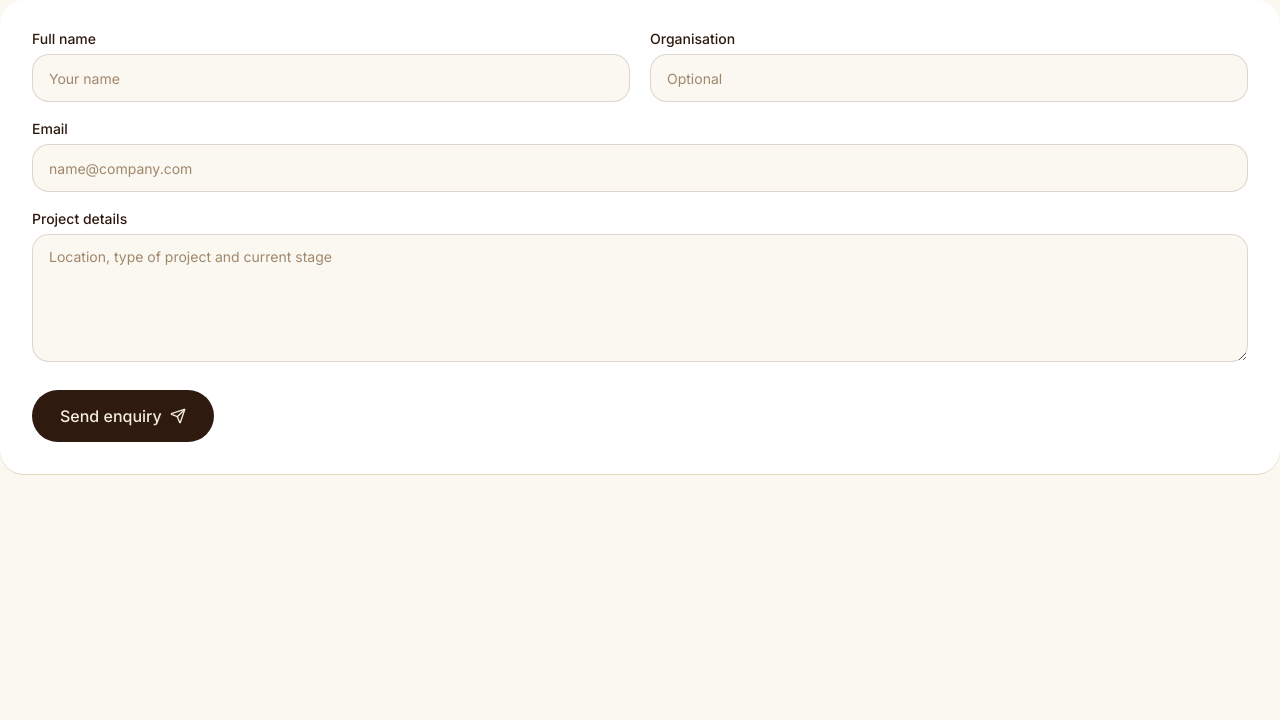
it: EnquiryForm › states plainly that online enquiries are not connected yet when the form is valid
Type "Mariam Al Mansoori" into the field labelled "Full name" at {"x": 331, "y": 78}, box 32,54 -> 630,102
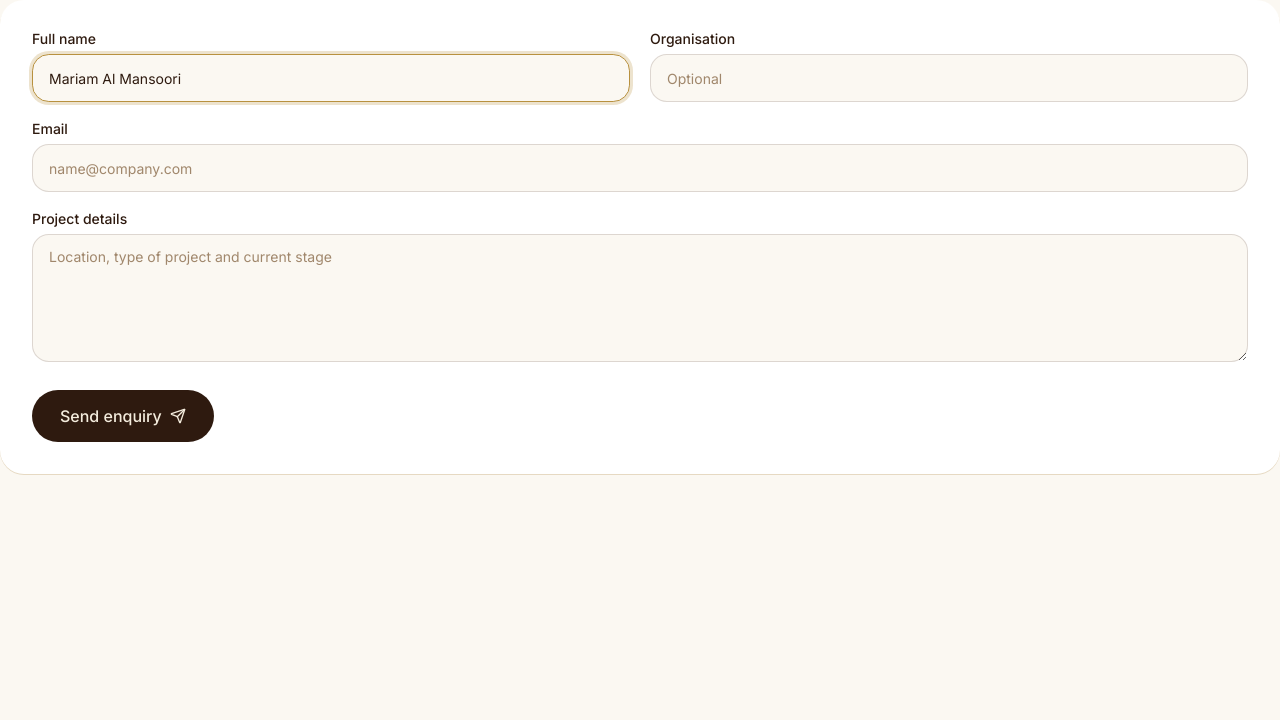
Type "mariam@example.ae" into the field labelled "Email" at {"x": 640, "y": 168}, box 32,144 -> 1248,192
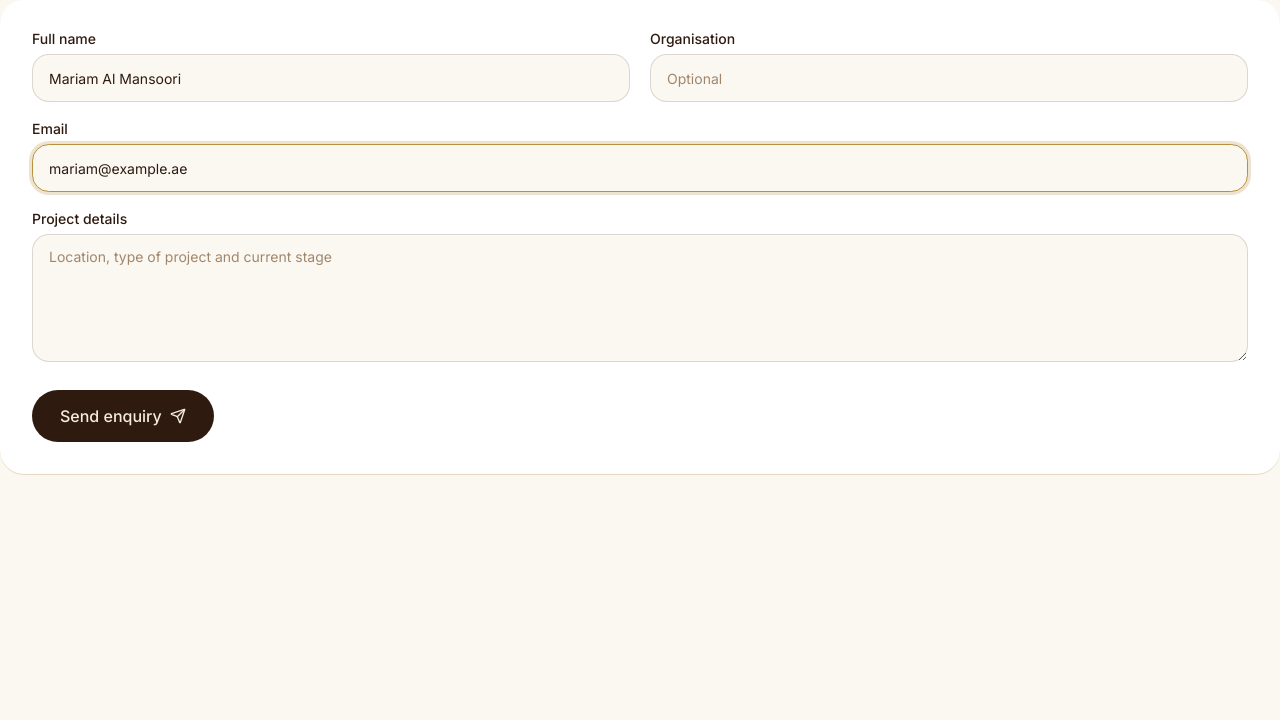
Type "Villa estate in Al Ain, concept stage." into the text box labelled "Project details" at {"x": 640, "y": 298}, box 32,234 -> 1248,362
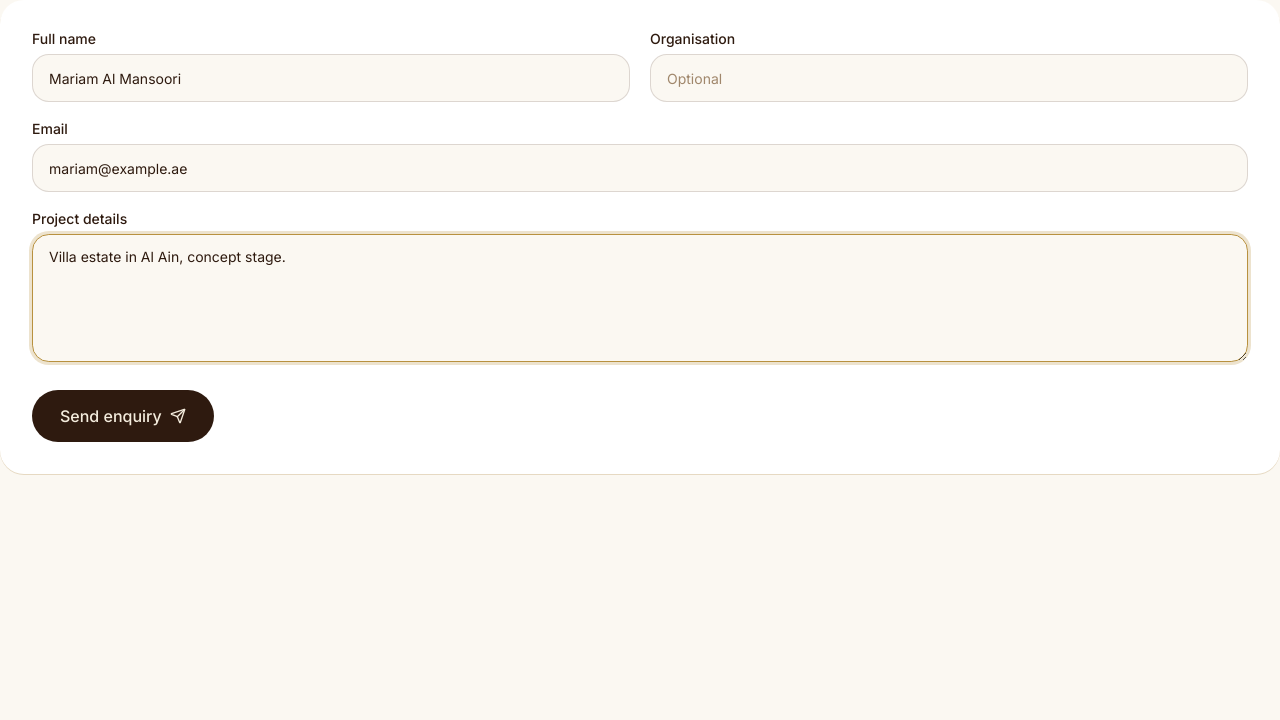
Click the button "Send enquiry" at {"x": 123, "y": 416}, box 32,390 -> 214,442
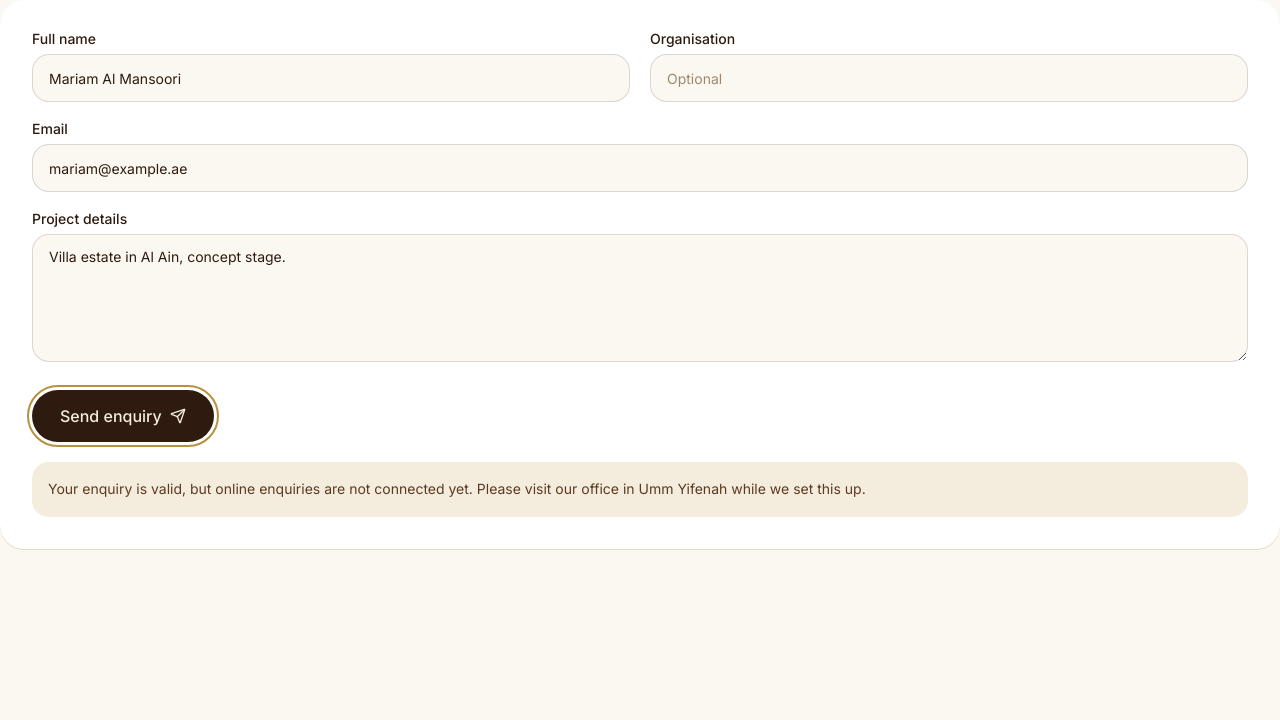
expect the message shows "Your enquiry is valid, but online enquiries are not connected yet. Please visit our office in Umm Yifenah while we set this up.": met, box 48,480 -> 866,497
